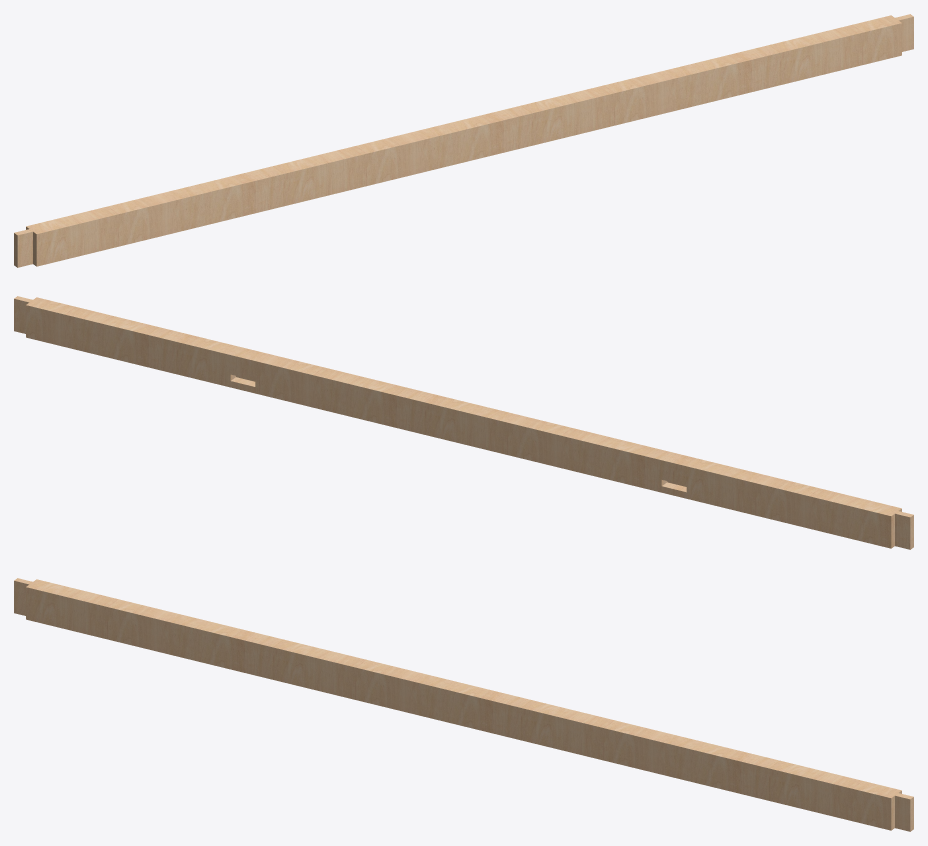
File: original-26.obj
The picture shows the model from 3 angles, top to bottom: view 1: azimuth 30°, elevation 25°; view 2: azimuth 150°, elevation 25°; view 3: azimuth 330°, elevation 25°; orthographic projection.
Parts seen in each view (by area): view 1: front_rail_1_1/front_rail_1/mesh49/mesh49-geometry#mesh49-geomet; view 2: front_rail_1_1/front_rail_1/mesh49/mesh49-geometry#mesh49-geomet; view 3: front_rail_1_1/front_rail_1/mesh49/mesh49-geometry#mesh49-geomet.
Part boxes in pixels (x1,y1,x2,y2): front_rail_1_1/front_rail_1/mesh49/mesh49-geometry#mesh49-geomet: (14,14,913,267); front_rail_1_1/front_rail_1/mesh49/mesh49-geometry#mesh49-geomet: (14,296,913,549); front_rail_1_1/front_rail_1/mesh49/mesh49-geometry#mesh49-geomet: (14,578,913,831).
Size of the model in its own units: 1.1 by 0.0381 by 0.0228.
